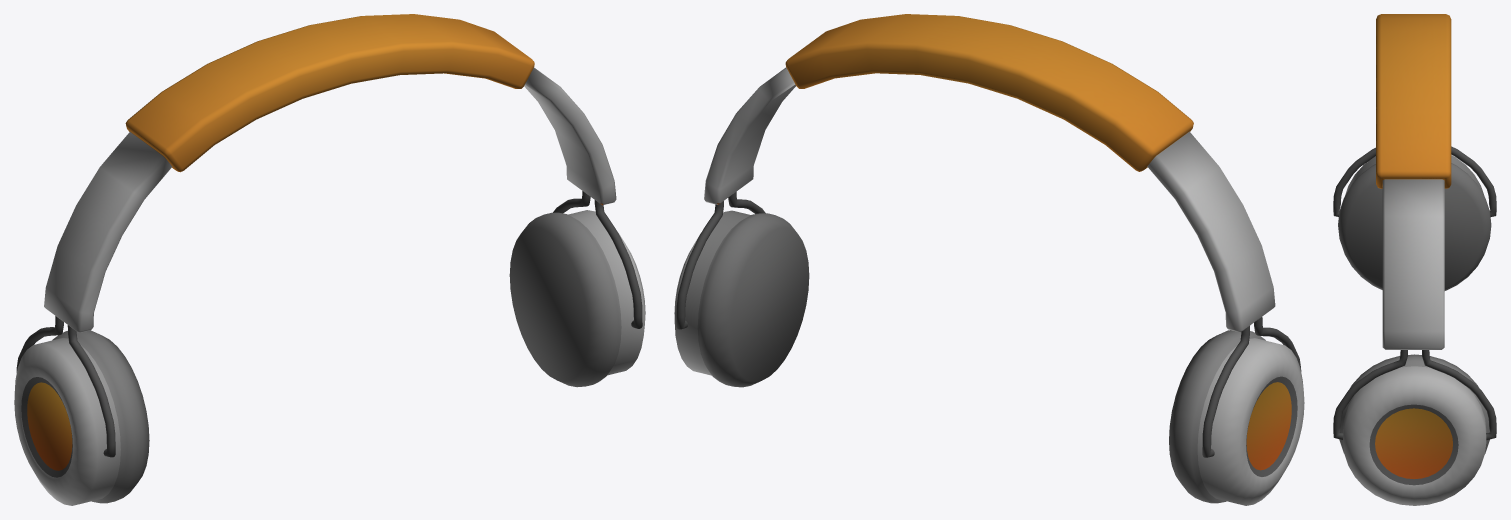
The model's file is earphone2.fbx.
The picture shows the model from 3 angles, left to right: view 1: azimuth 30°, elevation 25°; view 2: azimuth 150°, elevation 25°; view 3: azimuth 270°, elevation 25°; orthographic projection. The views are drawn at different scales.
Parts seen in each view (by area): view 1: Plane.002; view 2: Plane.002; view 3: Plane.002.
Boxes of the visible parts, x1=… form: Plane.002: x1=14, y1=14, x2=645, y2=505; Plane.002: x1=674, y1=14, x2=1304, y2=505; Plane.002: x1=1333, y1=14, x2=1496, y2=505.
Bounding box in the file's own units: 88.17 × 304 × 206.
